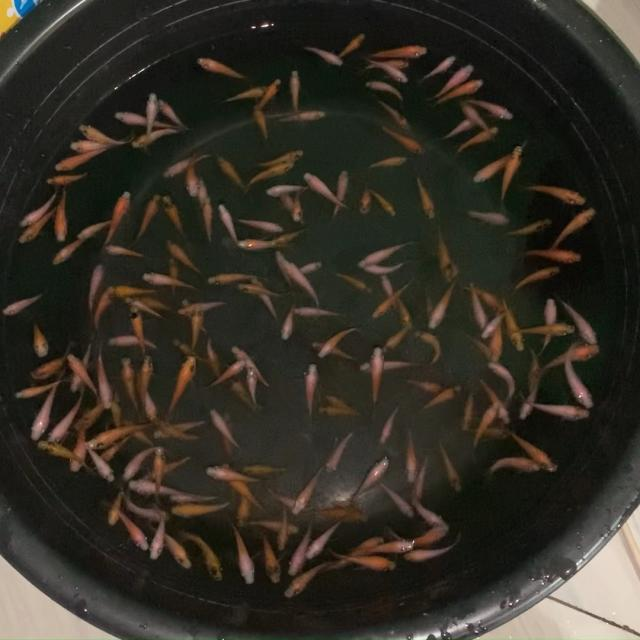nila: (506, 428, 565, 474), (470, 138, 528, 184), (102, 499, 150, 554), (224, 461, 272, 515), (534, 339, 602, 377), (178, 530, 224, 584), (548, 206, 600, 253), (556, 296, 602, 348), (82, 419, 150, 454), (302, 171, 356, 215), (28, 374, 61, 446), (562, 348, 598, 414), (328, 534, 386, 572), (348, 454, 389, 506), (522, 397, 598, 425), (150, 524, 194, 572), (47, 388, 84, 445), (354, 235, 416, 269), (230, 344, 276, 388), (18, 183, 60, 230), (227, 518, 256, 586), (100, 188, 134, 246), (372, 274, 416, 318), (284, 260, 322, 310), (222, 366, 260, 416), (242, 159, 297, 193), (290, 465, 326, 516), (460, 98, 498, 146), (405, 536, 465, 566), (454, 121, 504, 157), (500, 141, 525, 213), (425, 279, 458, 333), (119, 486, 171, 520), (481, 372, 515, 424), (427, 62, 472, 101), (494, 300, 527, 353), (50, 145, 110, 174), (509, 264, 562, 296), (282, 562, 324, 602), (17, 204, 57, 246), (32, 440, 88, 470), (168, 355, 196, 414), (30, 341, 70, 382), (164, 239, 208, 276), (432, 76, 488, 105), (418, 381, 470, 412), (386, 523, 447, 549), (376, 121, 424, 154), (524, 182, 590, 206), (288, 517, 314, 577), (141, 270, 206, 294), (304, 520, 341, 562), (80, 442, 117, 484), (323, 428, 355, 476), (67, 351, 101, 396), (213, 153, 251, 193), (482, 457, 542, 482), (409, 494, 453, 528), (472, 397, 499, 452), (479, 301, 518, 339), (316, 324, 356, 361), (414, 52, 457, 86), (139, 452, 193, 479), (161, 151, 208, 182), (128, 480, 200, 500), (500, 214, 553, 241), (438, 113, 482, 145), (92, 284, 118, 338), (152, 416, 206, 442), (122, 442, 156, 483), (249, 146, 307, 170), (328, 553, 401, 572), (250, 276, 280, 322), (136, 191, 163, 242), (71, 395, 107, 433), (94, 430, 132, 466), (210, 410, 244, 450), (378, 479, 412, 519), (488, 358, 518, 403), (364, 58, 412, 86), (437, 443, 465, 491), (305, 504, 372, 524), (462, 332, 501, 366), (12, 376, 61, 403), (195, 56, 250, 80), (468, 95, 518, 121), (163, 196, 191, 242), (114, 108, 178, 128), (260, 527, 282, 585), (130, 125, 183, 149), (205, 465, 268, 485), (272, 248, 298, 296), (266, 484, 314, 510), (120, 355, 138, 424), (78, 124, 140, 144), (412, 329, 443, 369), (518, 247, 583, 266), (50, 237, 91, 267), (302, 40, 344, 69), (2, 290, 45, 318), (69, 343, 94, 391), (93, 348, 113, 408), (86, 261, 107, 318), (154, 415, 206, 438), (124, 294, 168, 321), (538, 297, 558, 356), (224, 83, 273, 107), (311, 341, 360, 365), (413, 173, 438, 220), (207, 360, 247, 389), (357, 539, 418, 558), (379, 98, 413, 132), (511, 322, 578, 339), (402, 374, 449, 398), (466, 284, 506, 312), (254, 74, 284, 111), (129, 301, 148, 359), (70, 416, 89, 474), (332, 167, 352, 222), (467, 280, 488, 332), (147, 505, 166, 562), (366, 79, 411, 103), (304, 362, 320, 428), (464, 208, 512, 230), (52, 184, 70, 242), (104, 334, 162, 352), (220, 202, 242, 249), (269, 224, 310, 249), (272, 186, 304, 218), (122, 418, 156, 448), (172, 336, 208, 364), (181, 298, 209, 334), (76, 216, 118, 240), (369, 346, 384, 412), (157, 98, 190, 128), (172, 501, 230, 518), (101, 242, 150, 262), (246, 516, 300, 534), (361, 256, 418, 273), (378, 404, 401, 446), (334, 272, 376, 295), (288, 68, 308, 116), (134, 384, 158, 424), (403, 429, 421, 482), (234, 237, 290, 254), (205, 272, 273, 286), (460, 382, 479, 432), (281, 260, 323, 282), (219, 411, 237, 462), (292, 304, 349, 320), (489, 312, 506, 365), (382, 324, 412, 354), (108, 383, 124, 439), (236, 282, 285, 300), (106, 284, 161, 300), (337, 31, 367, 60), (372, 188, 400, 219), (524, 344, 542, 392), (250, 100, 270, 143), (42, 171, 92, 188), (234, 218, 290, 233), (136, 294, 178, 314), (469, 425, 518, 442), (236, 482, 254, 528), (414, 452, 432, 498), (277, 303, 297, 344), (206, 338, 226, 379), (358, 361, 421, 374), (178, 298, 229, 314), (276, 501, 292, 552), (518, 385, 540, 422), (434, 250, 463, 278), (104, 487, 124, 527), (381, 274, 401, 314), (266, 183, 313, 200), (140, 352, 154, 408), (144, 90, 160, 138), (187, 302, 202, 353), (244, 366, 262, 408), (31, 316, 49, 358), (368, 46, 430, 58), (185, 148, 199, 199), (362, 58, 412, 72), (278, 110, 328, 124), (316, 404, 366, 418), (166, 254, 180, 304), (438, 224, 450, 282), (326, 392, 359, 413), (394, 294, 414, 328), (154, 446, 166, 502), (167, 493, 220, 504), (366, 154, 407, 168), (361, 178, 376, 216), (203, 198, 214, 246), (194, 176, 210, 209), (243, 464, 292, 474), (69, 140, 117, 150), (294, 182, 305, 223), (422, 288, 434, 324)
